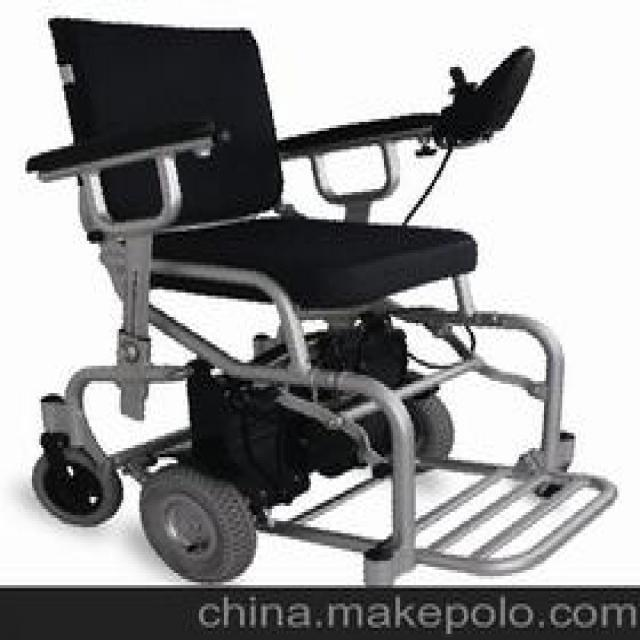wheelchair: (20, 9, 636, 579)
